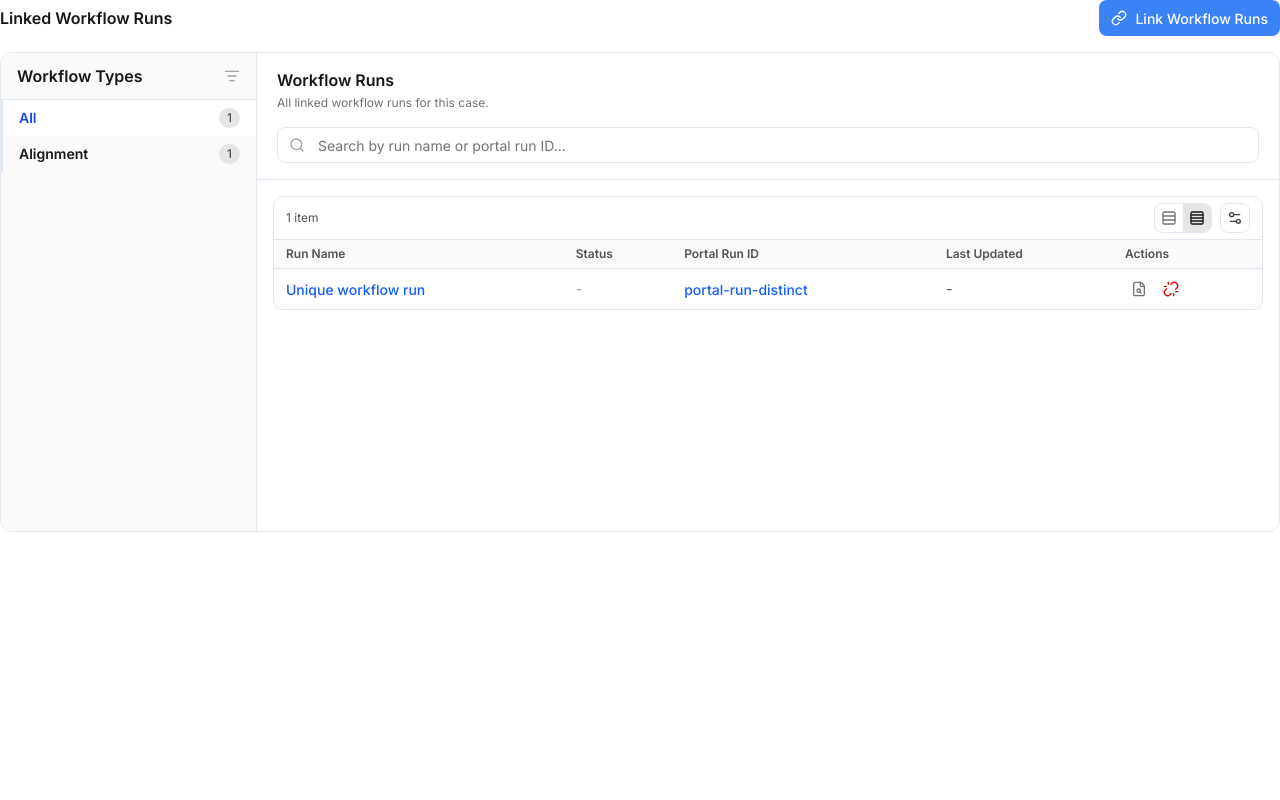
Test: CaseDetailsLinkedWorkflowRunsTab › labels file and unlink actions, and requires confirmation after cancellation
Expected: the button named "View files for workflow run Unique workflow run" is shown, 1125,275 -> 1153,303
Click the button named "Unlink workflow run Unique workflow run" at (1171, 289), box 1157,275 -> 1185,303
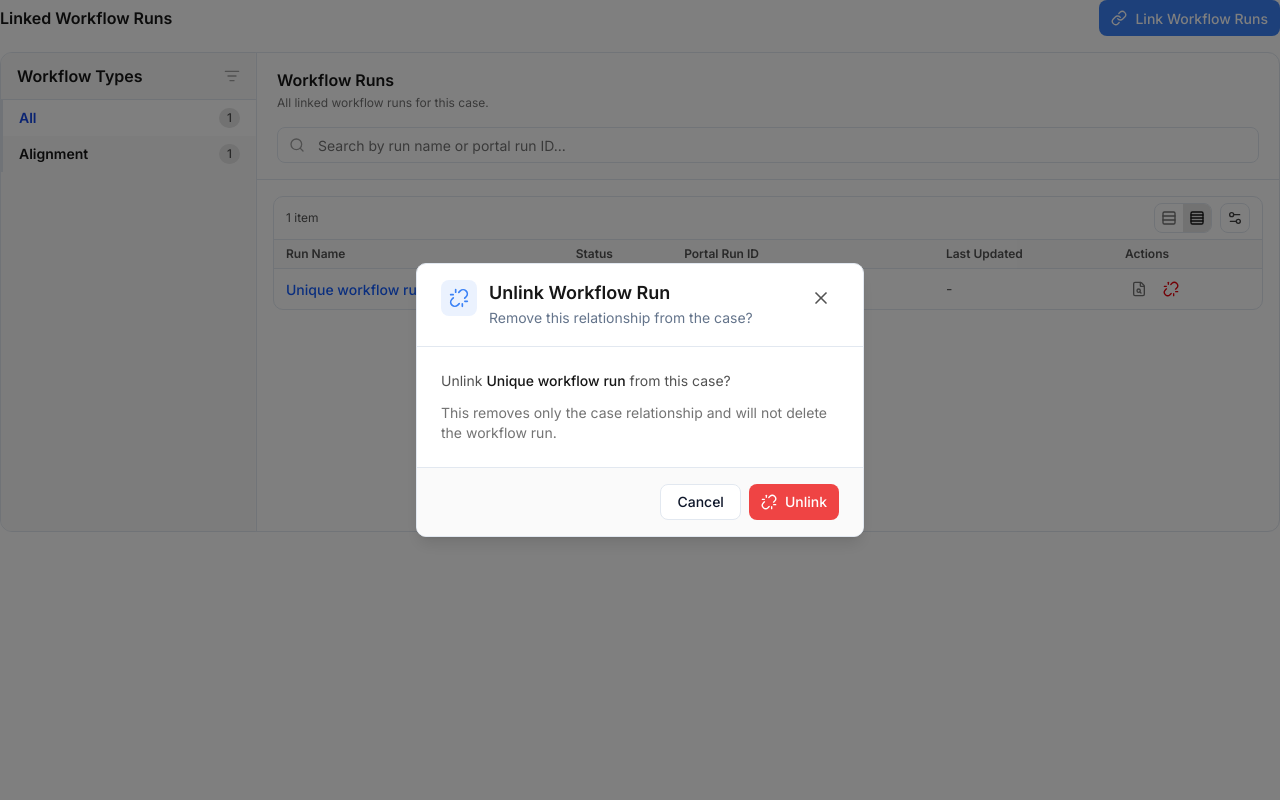
Now the heading "Unlink Workflow Run" is shown, box 489,280 -> 670,305
Click the button "Cancel" at (701, 502), box 660,484 -> 741,520
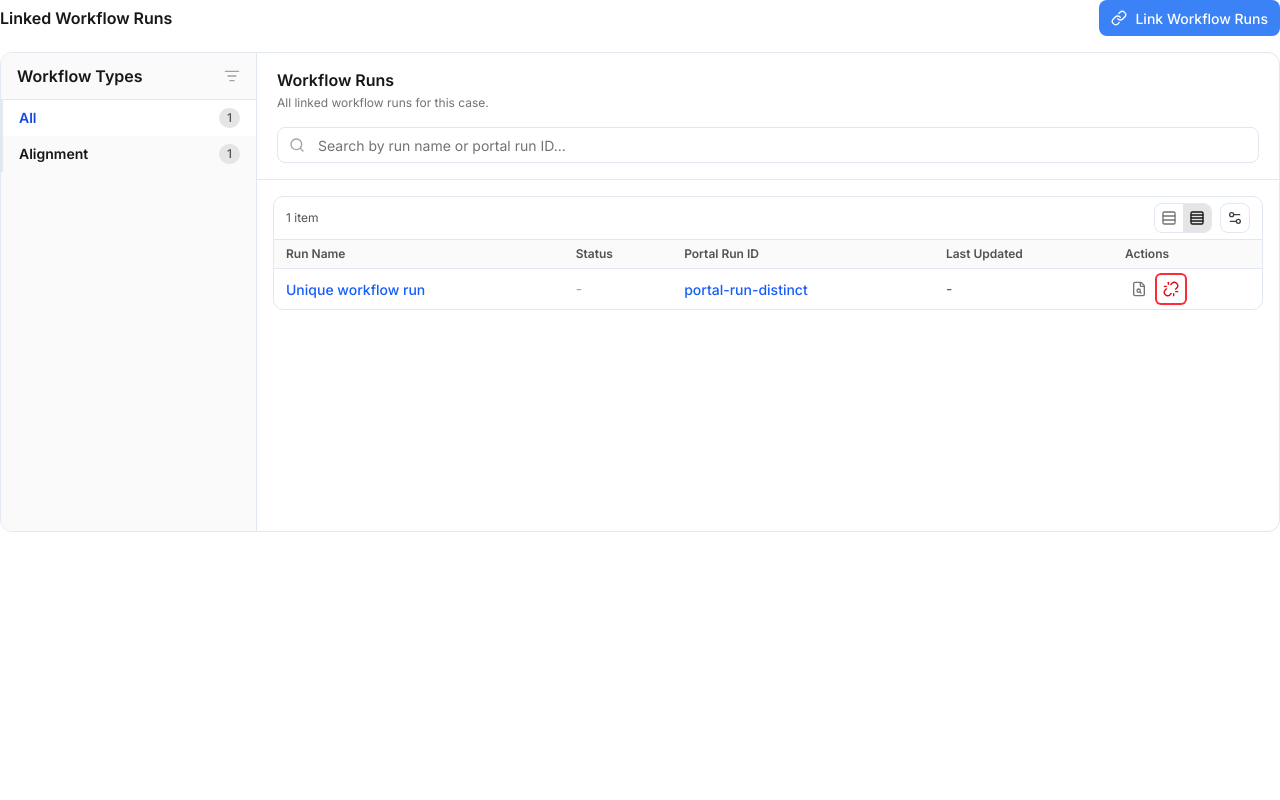
Now the heading "Unlink Workflow Run" is gone
Click the button named "Unlink workflow run Unique workflow run" at (1171, 289), box 1157,275 -> 1185,303
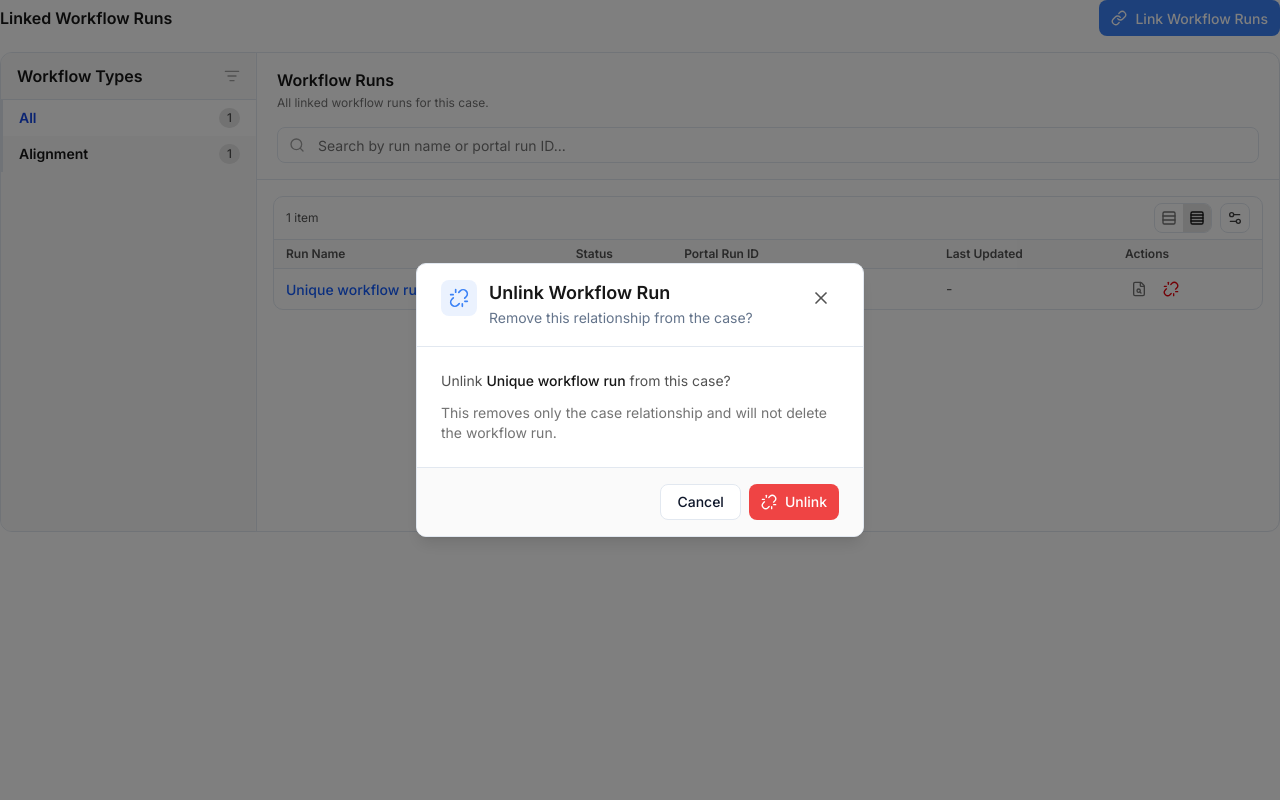
Now the heading "Unlink Workflow Run" is shown, box 489,280 -> 670,305
